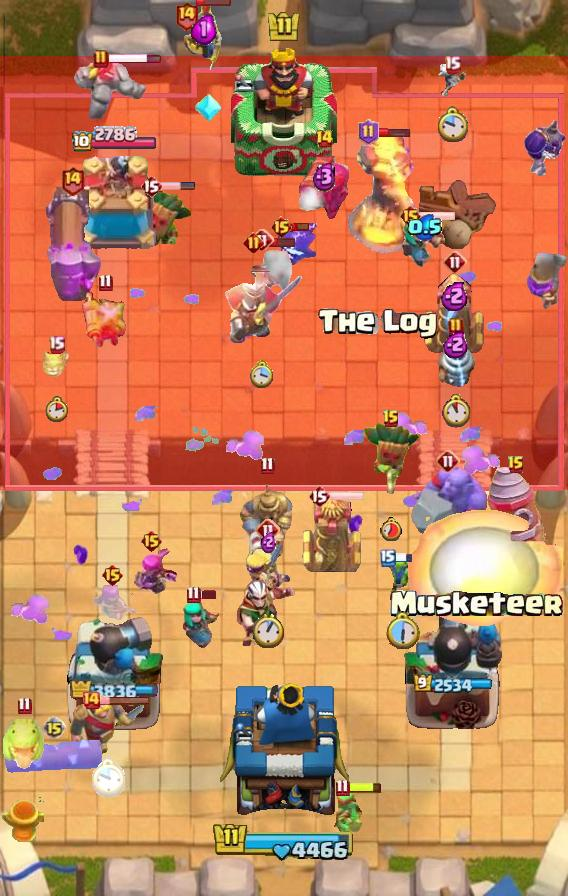archer: (85, 585, 139, 629)
archer-evolution: (122, 544, 180, 602)
bandit: (246, 245, 294, 297)
bar: (107, 52, 162, 65), (99, 695, 151, 706), (347, 781, 383, 794), (328, 490, 365, 502), (419, 210, 456, 222), (261, 236, 296, 248), (376, 127, 411, 138), (160, 181, 196, 191), (196, 0, 232, 7), (394, 552, 413, 564), (198, 589, 218, 600), (290, 221, 310, 232)
bar-level: (60, 165, 85, 196), (174, 0, 199, 31), (42, 716, 66, 740), (256, 518, 280, 542), (436, 449, 460, 473), (443, 250, 467, 274), (250, 228, 274, 252), (101, 563, 124, 587), (140, 529, 163, 553), (270, 215, 293, 239), (399, 204, 422, 228), (358, 119, 379, 145), (308, 484, 330, 508), (140, 174, 162, 198), (243, 232, 264, 253), (81, 690, 101, 710), (315, 129, 334, 149), (507, 455, 525, 475), (382, 409, 400, 429), (48, 335, 65, 354), (444, 55, 461, 74), (448, 317, 464, 337), (93, 49, 109, 69), (380, 549, 396, 567), (335, 778, 350, 797), (17, 696, 32, 715), (186, 585, 201, 604), (260, 456, 275, 475), (98, 273, 113, 292)
barbarian-evolution: (244, 545, 292, 598)
bomber-evolution: (524, 111, 568, 177)
cannoneer-tower: (403, 601, 503, 731), (63, 615, 165, 731)
clock: (90, 757, 125, 799), (384, 611, 420, 650), (436, 106, 468, 144), (440, 394, 472, 428), (253, 613, 284, 648), (250, 359, 275, 388), (45, 396, 68, 422), (380, 517, 403, 541)
dart-goblin: (361, 422, 421, 498), (137, 186, 193, 250)
electro-spirit: (275, 223, 317, 269)
elixir: (407, 214, 443, 241), (441, 280, 469, 311), (191, 13, 217, 45), (312, 161, 337, 192), (443, 330, 469, 358), (261, 530, 276, 553)
firecracker: (82, 290, 128, 352)
firecracker-evolution: (295, 142, 353, 222)
goblin: (383, 556, 421, 600)
golemite: (72, 57, 148, 119)
guard: (182, 0, 226, 82)
ice-spirit-evolution-symbol: (194, 92, 222, 124)
king-tower: (220, 678, 349, 826), (231, 43, 337, 181)
king-tower-bar: (212, 821, 356, 863)
knight: (69, 696, 145, 755)
lava-pup: (40, 345, 72, 379)
musketeer: (526, 248, 568, 312)
queen-tower: (68, 156, 160, 256)
rascal-girl: (401, 220, 449, 270), (181, 599, 223, 653)
skeleton: (437, 64, 468, 98)
spear-goblin: (332, 788, 374, 832)
tesla: (421, 270, 489, 356), (301, 493, 363, 577)
the-log: (4, 737, 104, 775)
tower-bar: (71, 126, 158, 154), (70, 681, 159, 700), (413, 674, 493, 695)
zappy: (433, 334, 479, 388)
